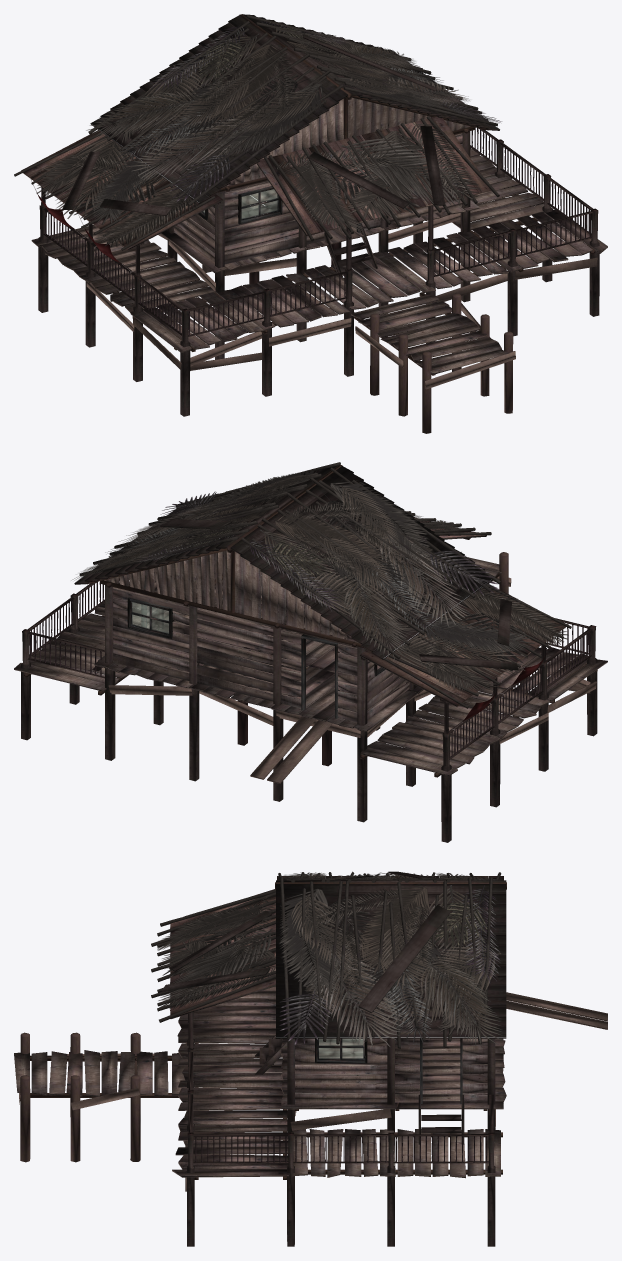
File: boathouse.glb
3 renders of one model, top to bottom at view 1: azimuth 30°, elevation 25°; view 2: azimuth 150°, elevation 25°; view 3: azimuth 270°, elevation 25°, orthographic. The views are drawn at different scales.
Parts seen in each view (by area): view 1: dock; view 2: dock; view 3: dock.
Part boxes in pixels (x1,y1,x2,y2): dock: (14,14,607,433); dock: (14,462,607,842); dock: (14,871,607,1246).
Bounding box in the file's own units: 13.35 × 7.03 × 14.45.
Materials: 29 (27 with a texture image).
